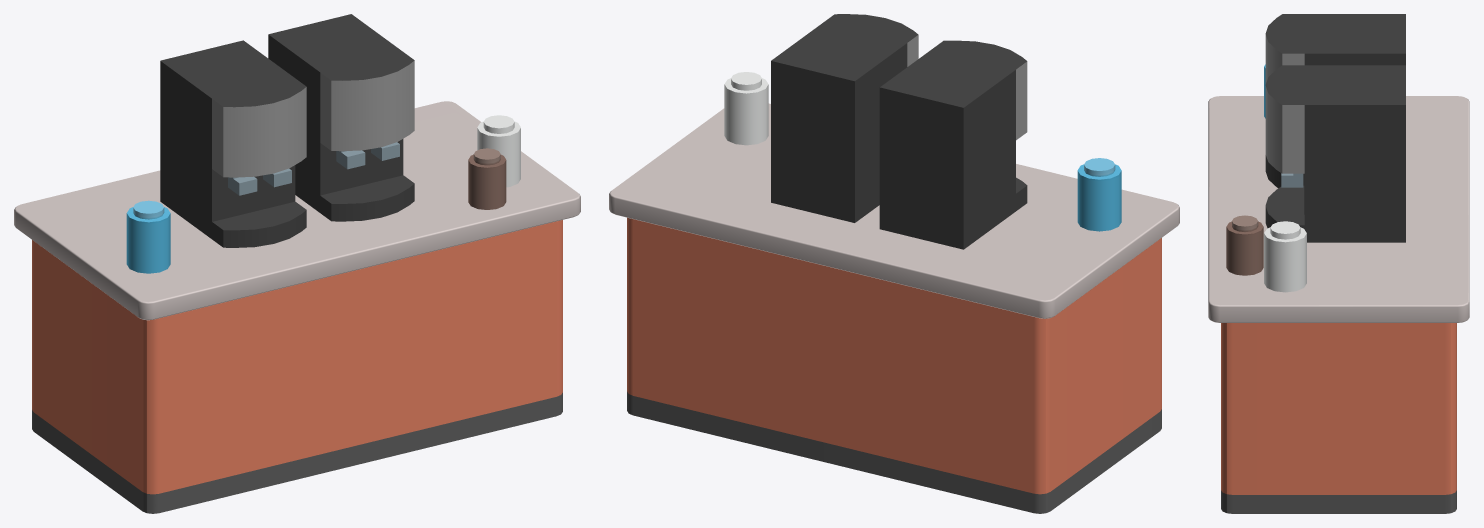
Rendered from Mixed_CoffeeTable_01.fbx.
3 renders of one model, left to right at view 1: azimuth 30°, elevation 25°; view 2: azimuth 150°, elevation 25°; view 3: azimuth 270°, elevation 25°, orthographic. The views are drawn at different scales.
Parts seen in each view (by area): view 1: Mixed_CoffeeTable_01; view 2: Mixed_CoffeeTable_01; view 3: Mixed_CoffeeTable_01.
Boxes of the visible parts, left/top/right/bottom form: Mixed_CoffeeTable_01: left=14, top=14, right=580, bottom=513; Mixed_CoffeeTable_01: left=609, top=14, right=1179, bottom=513; Mixed_CoffeeTable_01: left=1208, top=14, right=1469, bottom=513.
Size of the model in its own units: 353 by 275 by 185.
